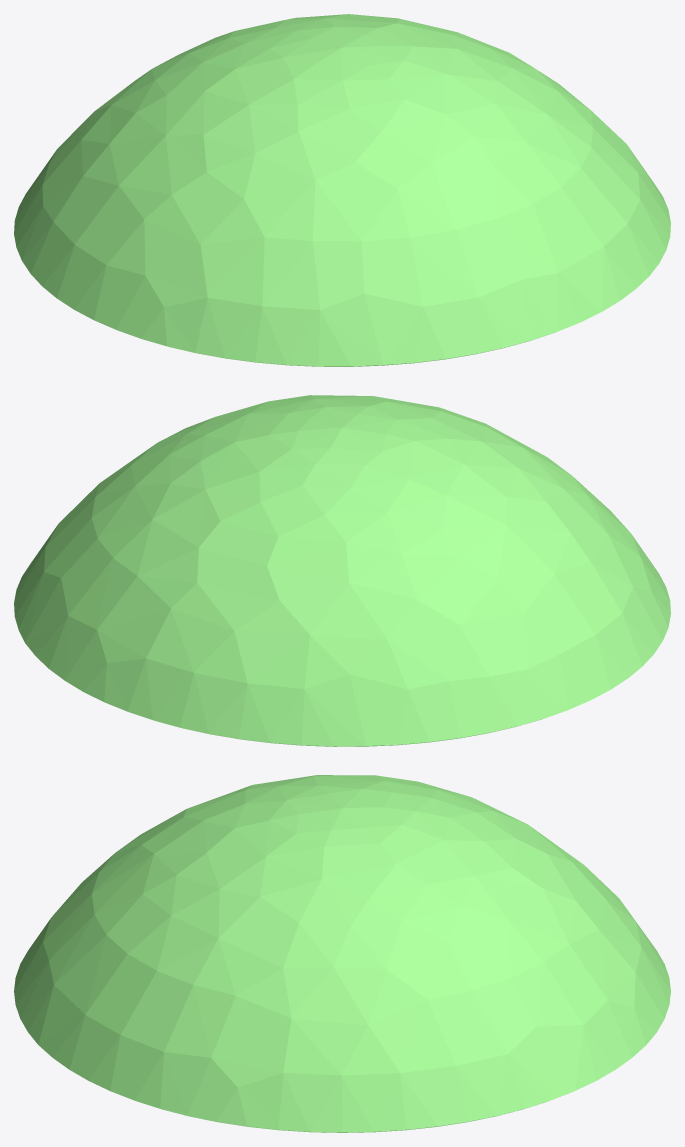
Rendered from green-light.dae.
The picture shows the model from 3 angles, top to bottom: view 1: azimuth 30°, elevation 25°; view 2: azimuth 150°, elevation 25°; view 3: azimuth 270°, elevation 25°; orthographic projection.
Visible parts, largest first — view 1: Sphere; view 2: Sphere; view 3: Sphere.
Part boxes in pixels (x1,y1,x2,y2): Sphere: [14, 14, 670, 366]; Sphere: [14, 395, 670, 746]; Sphere: [14, 775, 670, 1132].
Size of the model in its own units: 1.82 by 1.79 by 0.5573.
Materials: 1 (1 with a texture image).
